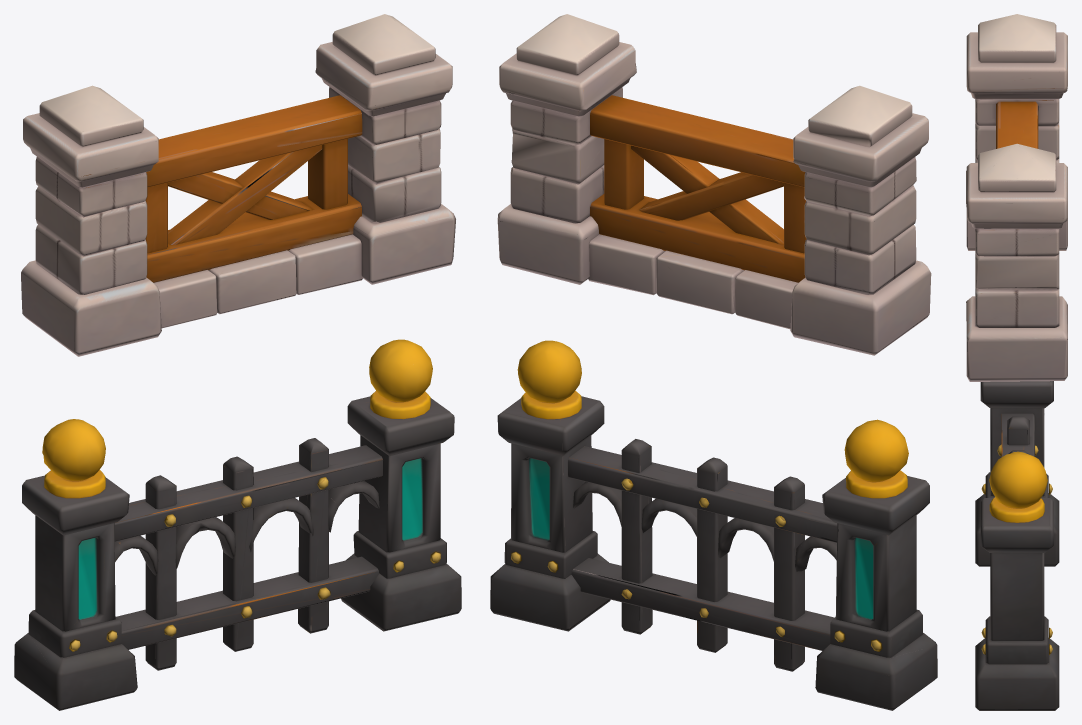
File: pair_stone_iron.glb
3 renders of one model, left to right at view 1: azimuth 30°, elevation 25°; view 2: azimuth 150°, elevation 25°; view 3: azimuth 270°, elevation 25°, orthographic. The views are drawn at different scales.
Visible parts, largest first — view 1: geometry_0; view 2: geometry_0; view 3: geometry_0.
Boxes of the visible parts, left/top/right/bottom form: geometry_0: left=14, top=14, right=461, bottom=710; geometry_0: left=490, top=14, right=937, bottom=710; geometry_0: left=966, top=14, right=1067, bottom=710.
Bounding box in the file's own units: 0.6782 × 0.9536 × 0.1616.
1 material, 1 textured.
